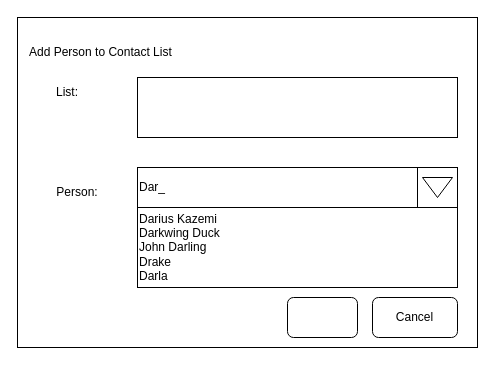
Image size: 495x365. Some labels were removed from this diagram. The centre of each missing label's shape, as x and y in pixels:
"Friends Family Work" belongs at point (297, 107).
"OK" belongs at point (322, 317).
